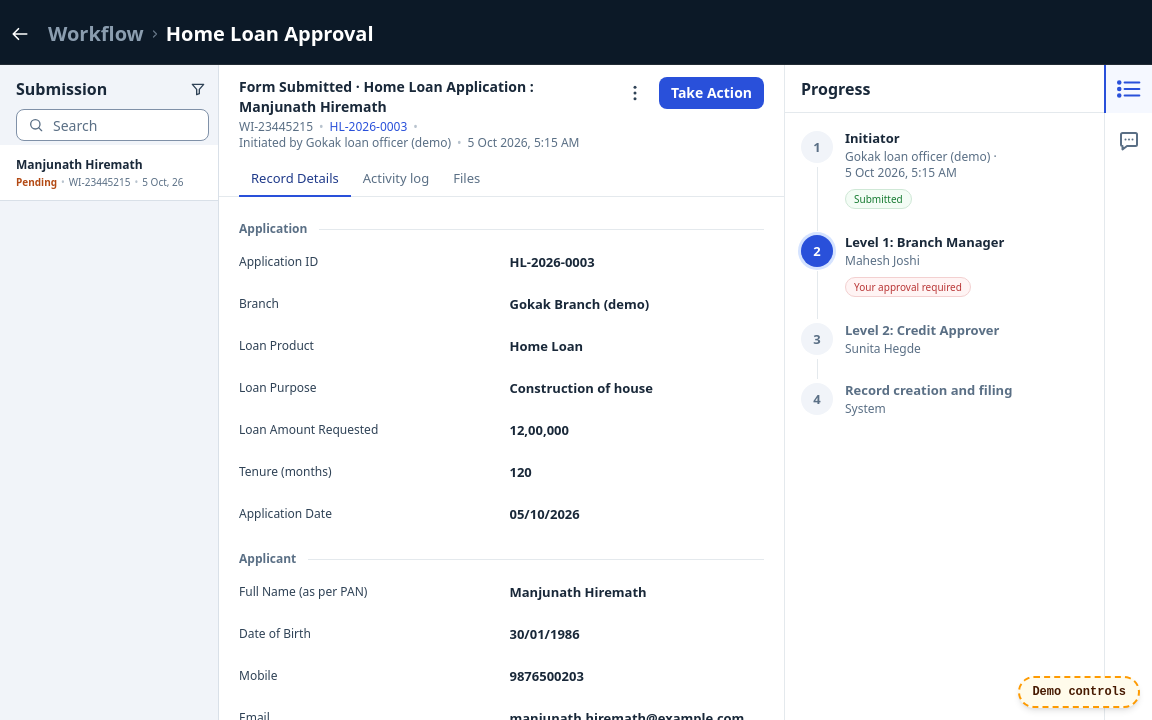
Test: the page › has the Application ID in the meta line as a link that opens the record sheet
Click the link with aria-label "Open the record of HL-2026-0003".
click(368, 127)  # box [330,119,407,135]
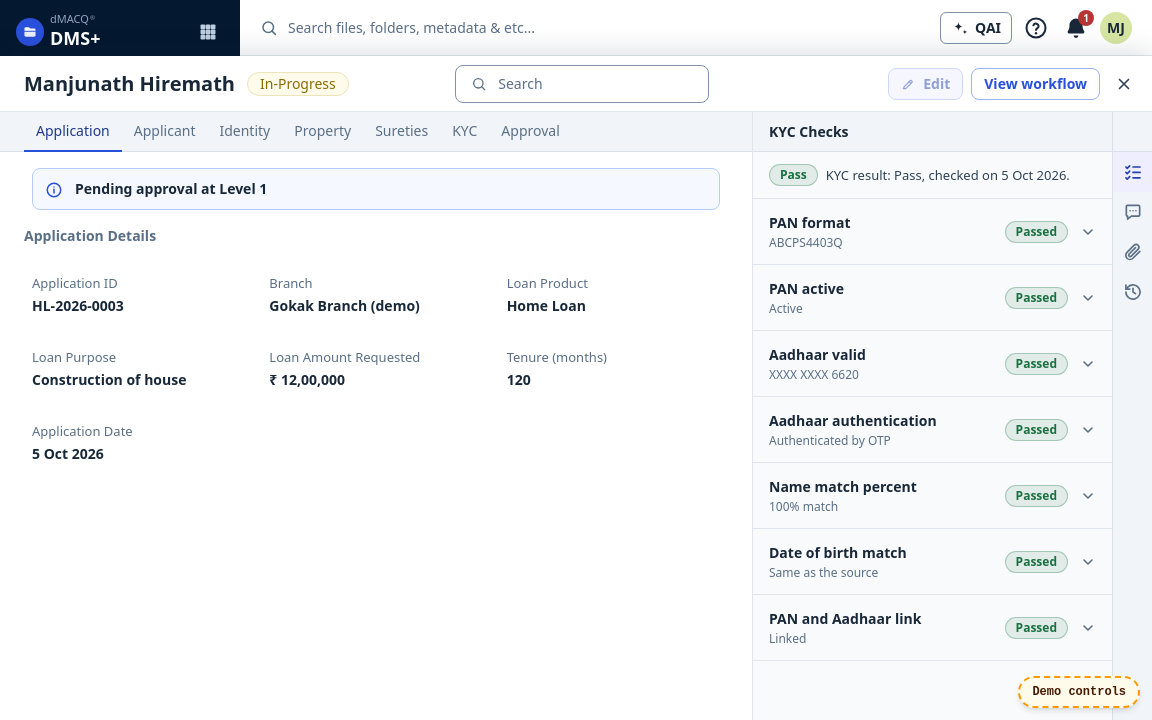
Check: the dialog named "Manjunath Hiremath, record" is shown
